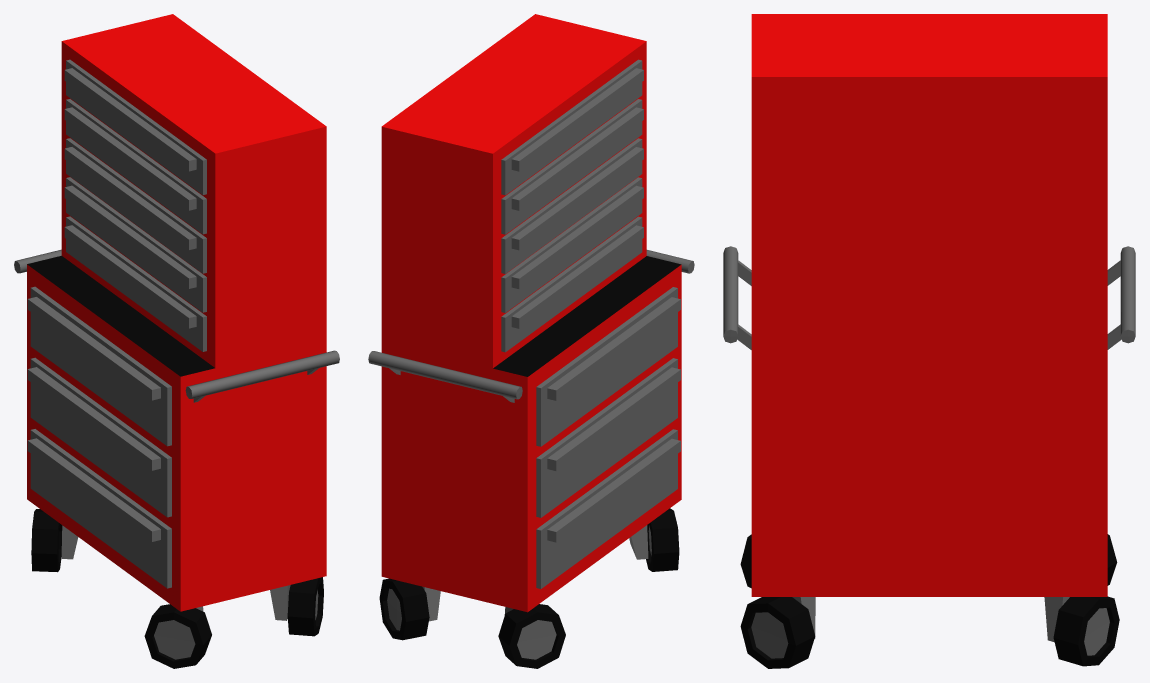
Rendered from Projectile_Large_ToolBox.FBX.
3 renders of one model, left to right at view 1: azimuth 30°, elevation 25°; view 2: azimuth 150°, elevation 25°; view 3: azimuth 270°, elevation 25°, orthographic. The views are drawn at different scales.
Visible parts, largest first — view 1: Projectile_Large_Garage_toolbox; view 2: Projectile_Large_Garage_toolbox; view 3: Projectile_Large_Garage_toolbox.
Part boxes in pixels (x1,y1,x2,y2): Projectile_Large_Garage_toolbox: [14, 14, 339, 668]; Projectile_Large_Garage_toolbox: [368, 14, 694, 668]; Projectile_Large_Garage_toolbox: [723, 14, 1135, 668].
Size of the model in its own units: 134 by 365 by 230.
